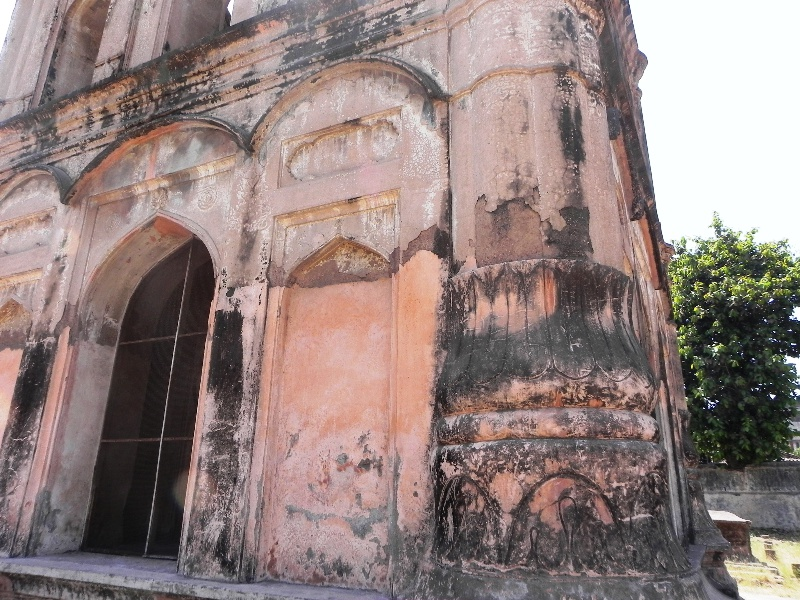Spalling: (266, 261, 386, 289), (390, 224, 446, 272)
